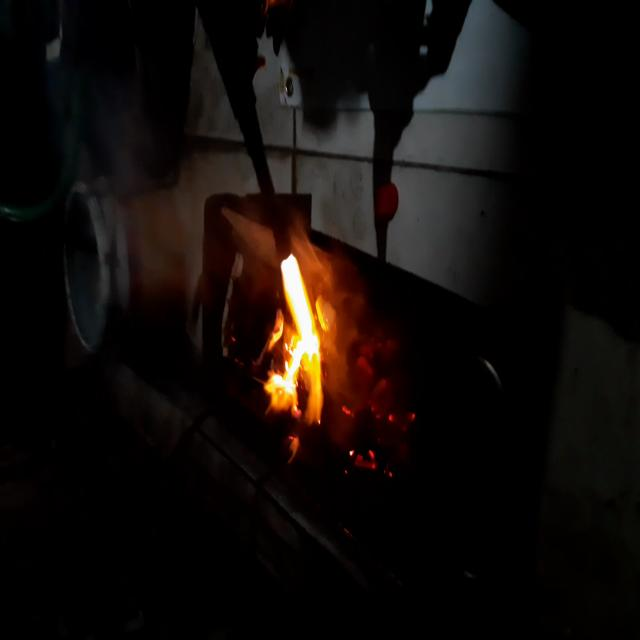Fire: (262, 249, 334, 454), (337, 354, 419, 502)
